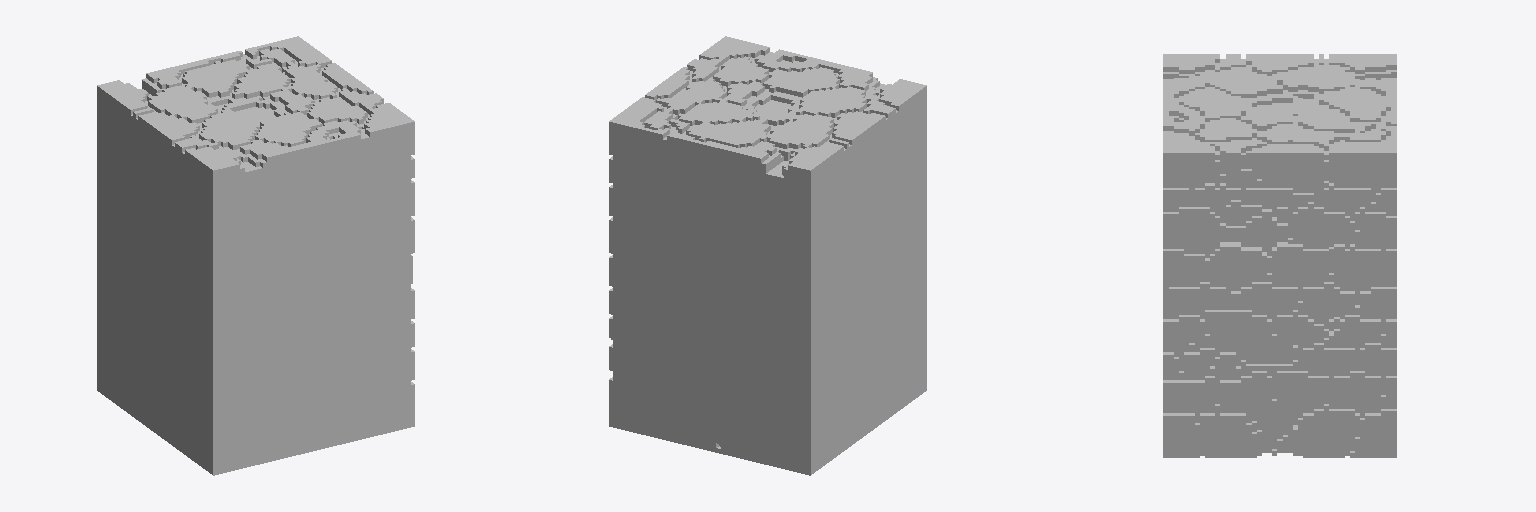
File: Wall.obj
The picture shows the model from 3 angles: view 1: azimuth 30°, elevation 25°; view 2: azimuth 150°, elevation 25°; view 3: azimuth 270°, elevation 25°; orthographic projection.
Bounding box in the file's own units: 45 × 65 × 45.